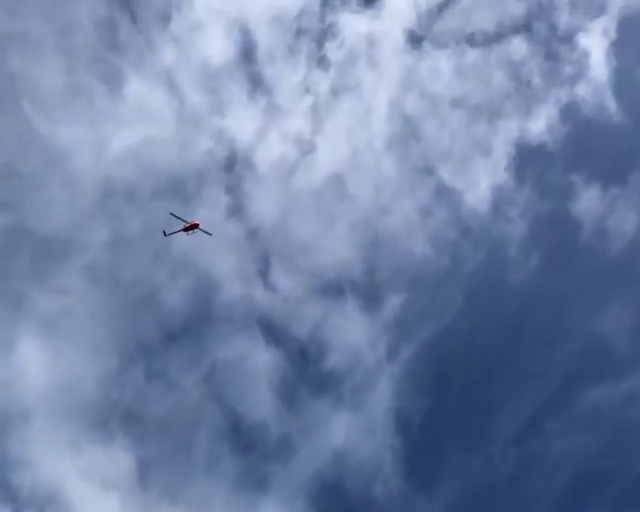HELICOPTER: (163, 211, 213, 238)
